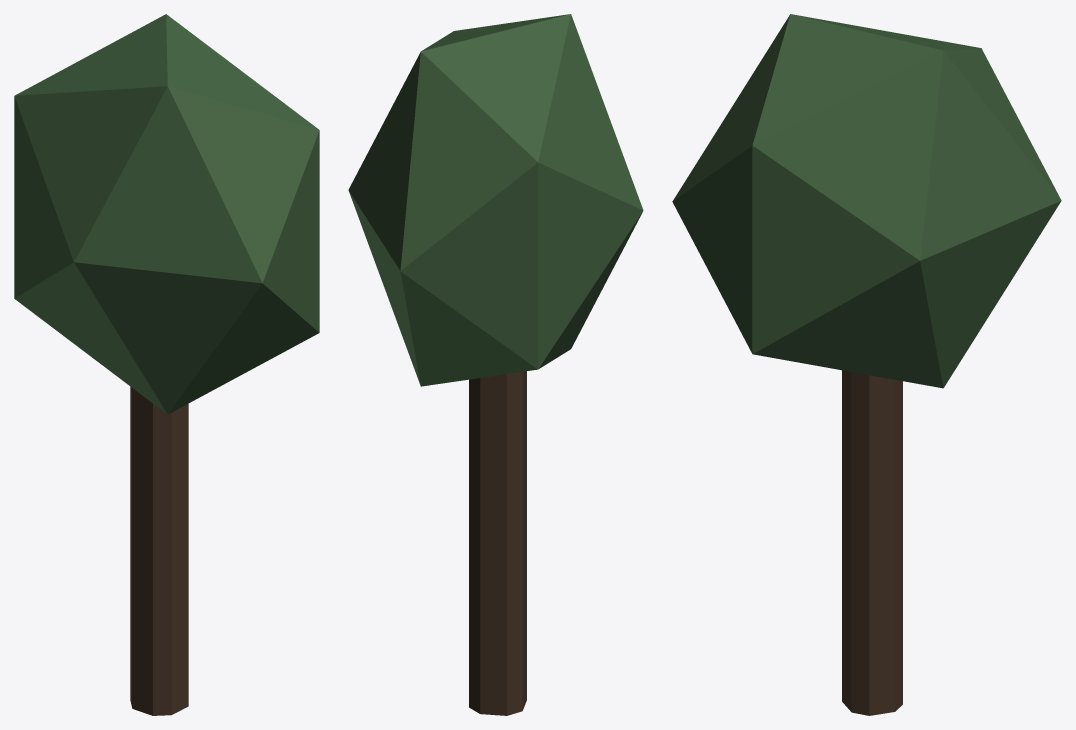
Rendered from SM_tree_1.fbx.
The picture shows the model from 3 angles, left to right: view 1: azimuth 30°, elevation 25°; view 2: azimuth 150°, elevation 25°; view 3: azimuth 270°, elevation 25°; orthographic projection. The views are drawn at different scales.
Parts seen in each view (by area): view 1: pPlatonic3; view 2: pPlatonic3; view 3: pPlatonic3.
Part boxes in pixels (x1,y1,x2,y2): pPlatonic3: (14, 14, 319, 715); pPlatonic3: (348, 14, 643, 715); pPlatonic3: (672, 14, 1061, 715).
Bounding box in the file's own units: 134 × 352 × 185.
